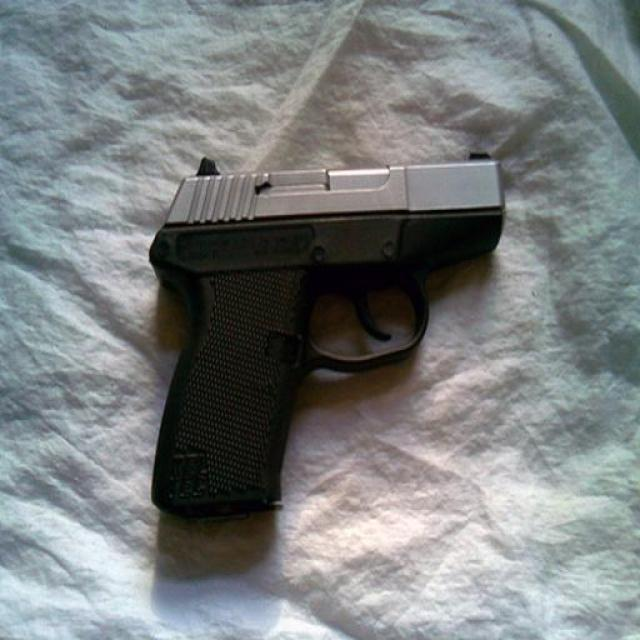pistol: (149, 157, 505, 516)
